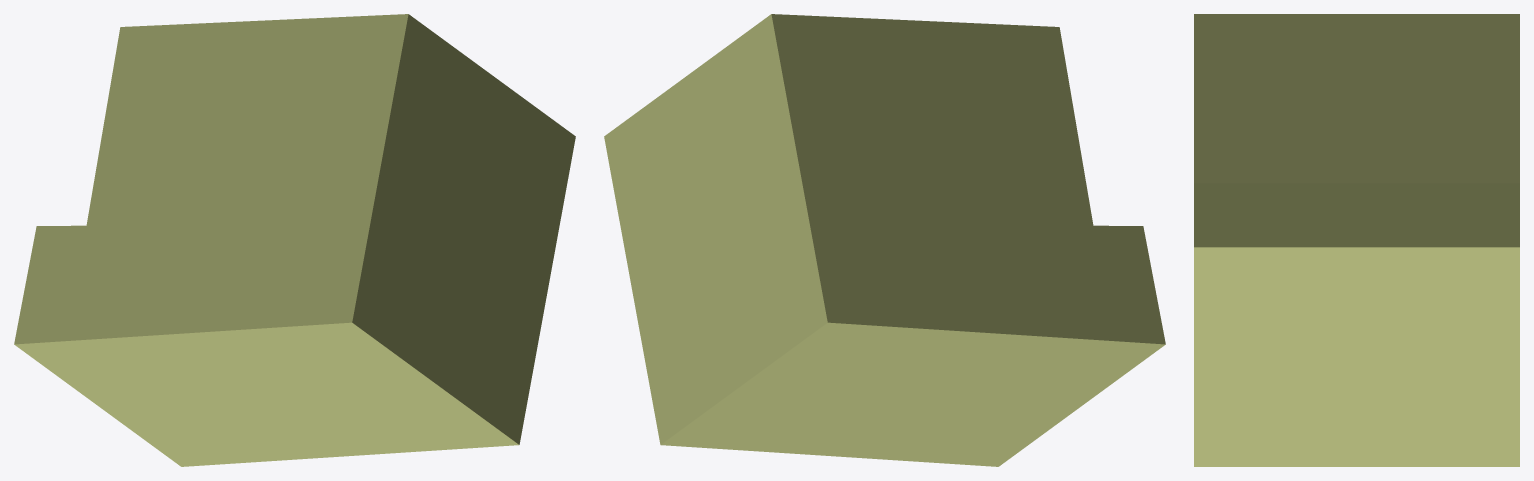
3 renders of one model, left to right at view 1: azimuth 30°, elevation 25°; view 2: azimuth 150°, elevation 25°; view 3: azimuth 270°, elevation 25°, orthographic. The views are drawn at different scales.
Visible parts, largest first — view 1: 0_3_0_1_1_1_0_3_1_2; view 2: 0_3_0_1_1_1_0_3_1_2; view 3: 0_3_0_1_1_1_0_3_1_2.
Boxes of the visible parts, <box> form: 0_3_0_1_1_1_0_3_1_2: <box>14,14,575,466</box>; 0_3_0_1_1_1_0_3_1_2: <box>604,14,1165,466</box>; 0_3_0_1_1_1_0_3_1_2: <box>1194,14,1519,466</box>.
Size of the model in its own units: 12.25 by 10.45 by 9.
